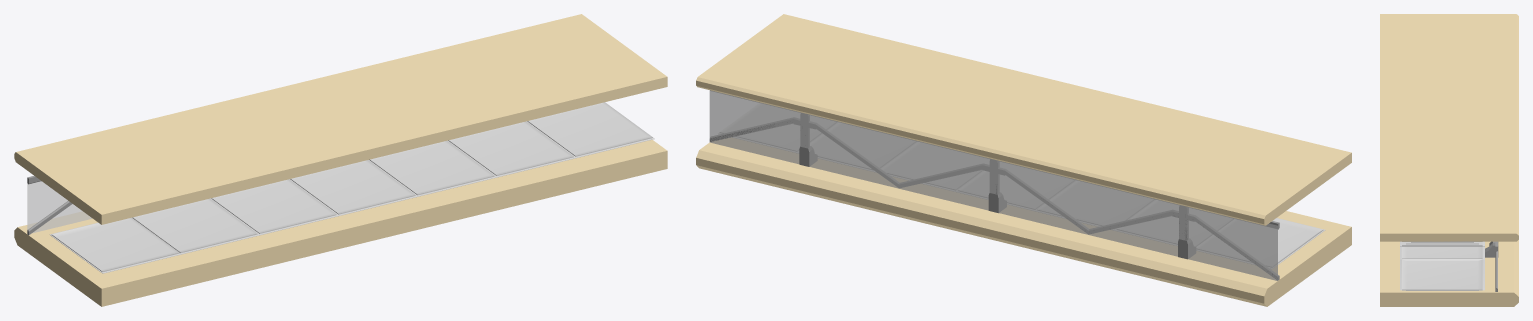
The model's file is Stage14_1.fbx.
3 renders of one model, left to right at view 1: azimuth 30°, elevation 25°; view 2: azimuth 150°, elevation 25°; view 3: azimuth 270°, elevation 25°, orthographic. The views are drawn at different scales.
Parts seen in each view (by area): view 1: Stage14UpFloor, Stage14RefFloorUnder, Stage14UnderFloor, Stage14Glass; view 2: Stage14UpFloor, Stage14Glass, Stage14UnderFloor, Stage14RefFloorUnder, GlassFence1; view 3: Stage14UpFloor, Stage14UnderFloor, Stage14RefFloorUnder, Stage14RefFloorUp, GlassFence1.
Boxes of the visible parts, x1,y1,x2,y2 form: Stage14UpFloor: [14, 14, 667, 224]; Stage14RefFloorUnder: [49, 102, 654, 273]; Stage14UnderFloor: [14, 139, 667, 306]; Stage14Glass: [27, 181, 92, 233]; Stage14UpFloor: [696, 14, 1351, 225]; Stage14Glass: [709, 90, 1277, 280]; Stage14UnderFloor: [696, 137, 1351, 306]; Stage14RefFloorUnder: [718, 103, 1325, 268]; GlassFence1: [709, 90, 1279, 280]; Stage14UpFloor: [1380, 14, 1518, 241]; Stage14UnderFloor: [1380, 240, 1518, 306]; Stage14RefFloorUnder: [1400, 246, 1484, 290]; Stage14RefFloorUp: [1400, 241, 1484, 246]; GlassFence1: [1485, 241, 1498, 291].
Bounding box in the file's own units: 3260 × 507 × 869.
